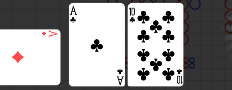10C: (175, 67, 183, 84)
AC: (115, 67, 124, 85)
AD: (40, 29, 58, 38)
